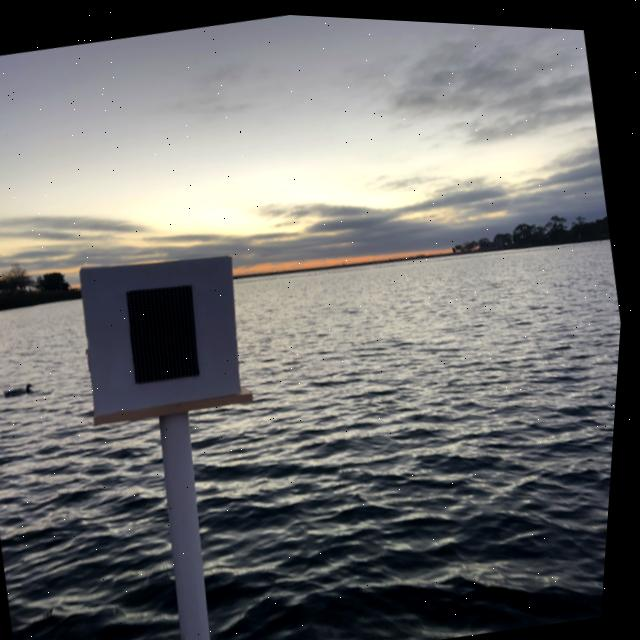led: (90, 251, 241, 403)
